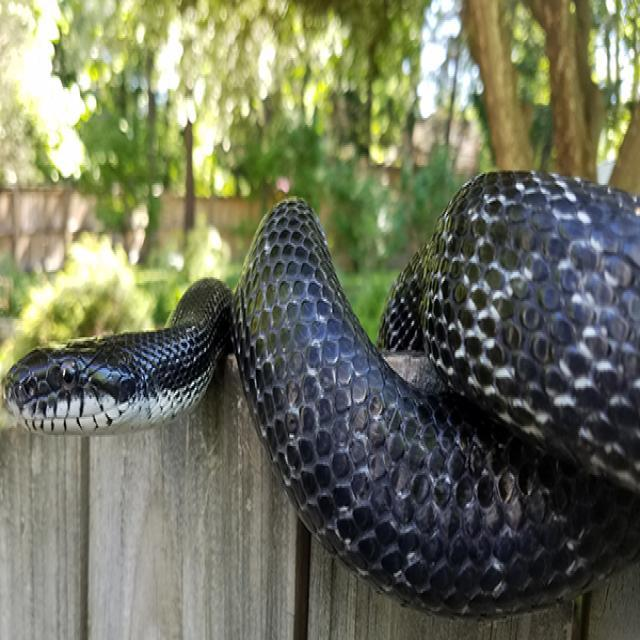Snake: (1, 163, 640, 606)
